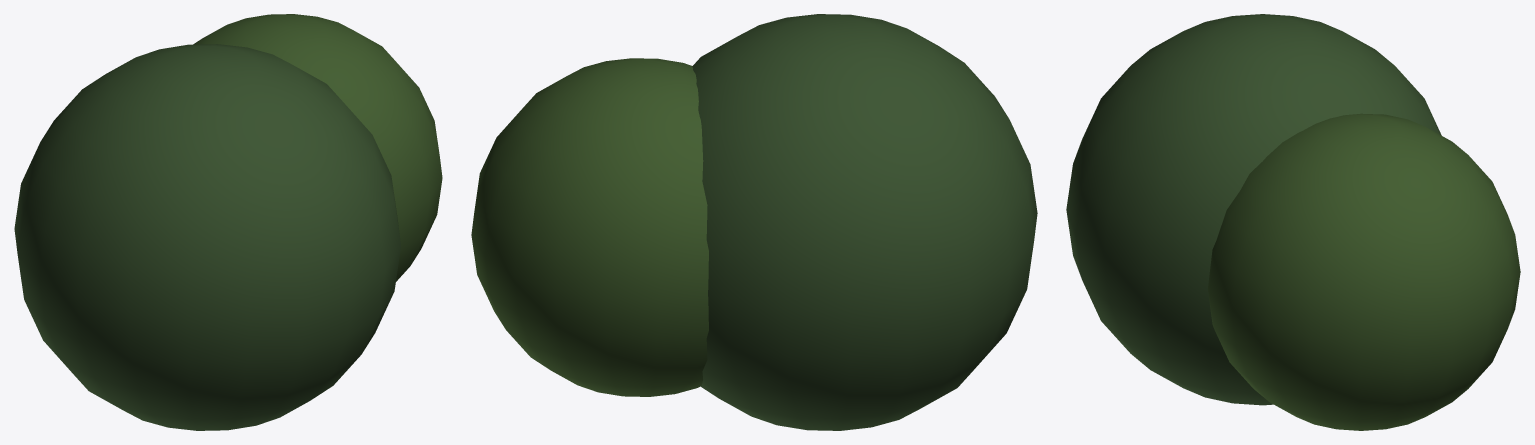
Rendered from Bush_2.fbx.
3 renders of one model, left to right at view 1: azimuth 30°, elevation 25°; view 2: azimuth 150°, elevation 25°; view 3: azimuth 270°, elevation 25°, orthographic. The views are drawn at different scales.
Parts seen in each view (by area): view 1: Leaf0, Leaf1; view 2: Leaf0, Leaf1; view 3: Leaf1, Leaf0.
Part boxes in pixels (<box>): Leaf0: <box>14,44,400,430</box>; Leaf1: <box>193,14,442,281</box>; Leaf0: <box>692,14,1037,430</box>; Leaf1: <box>471,58,708,396</box>; Leaf1: <box>1208,113,1520,430</box>; Leaf0: <box>1066,14,1441,405</box>.
Size of the model in its own units: 205 by 185 by 160.
